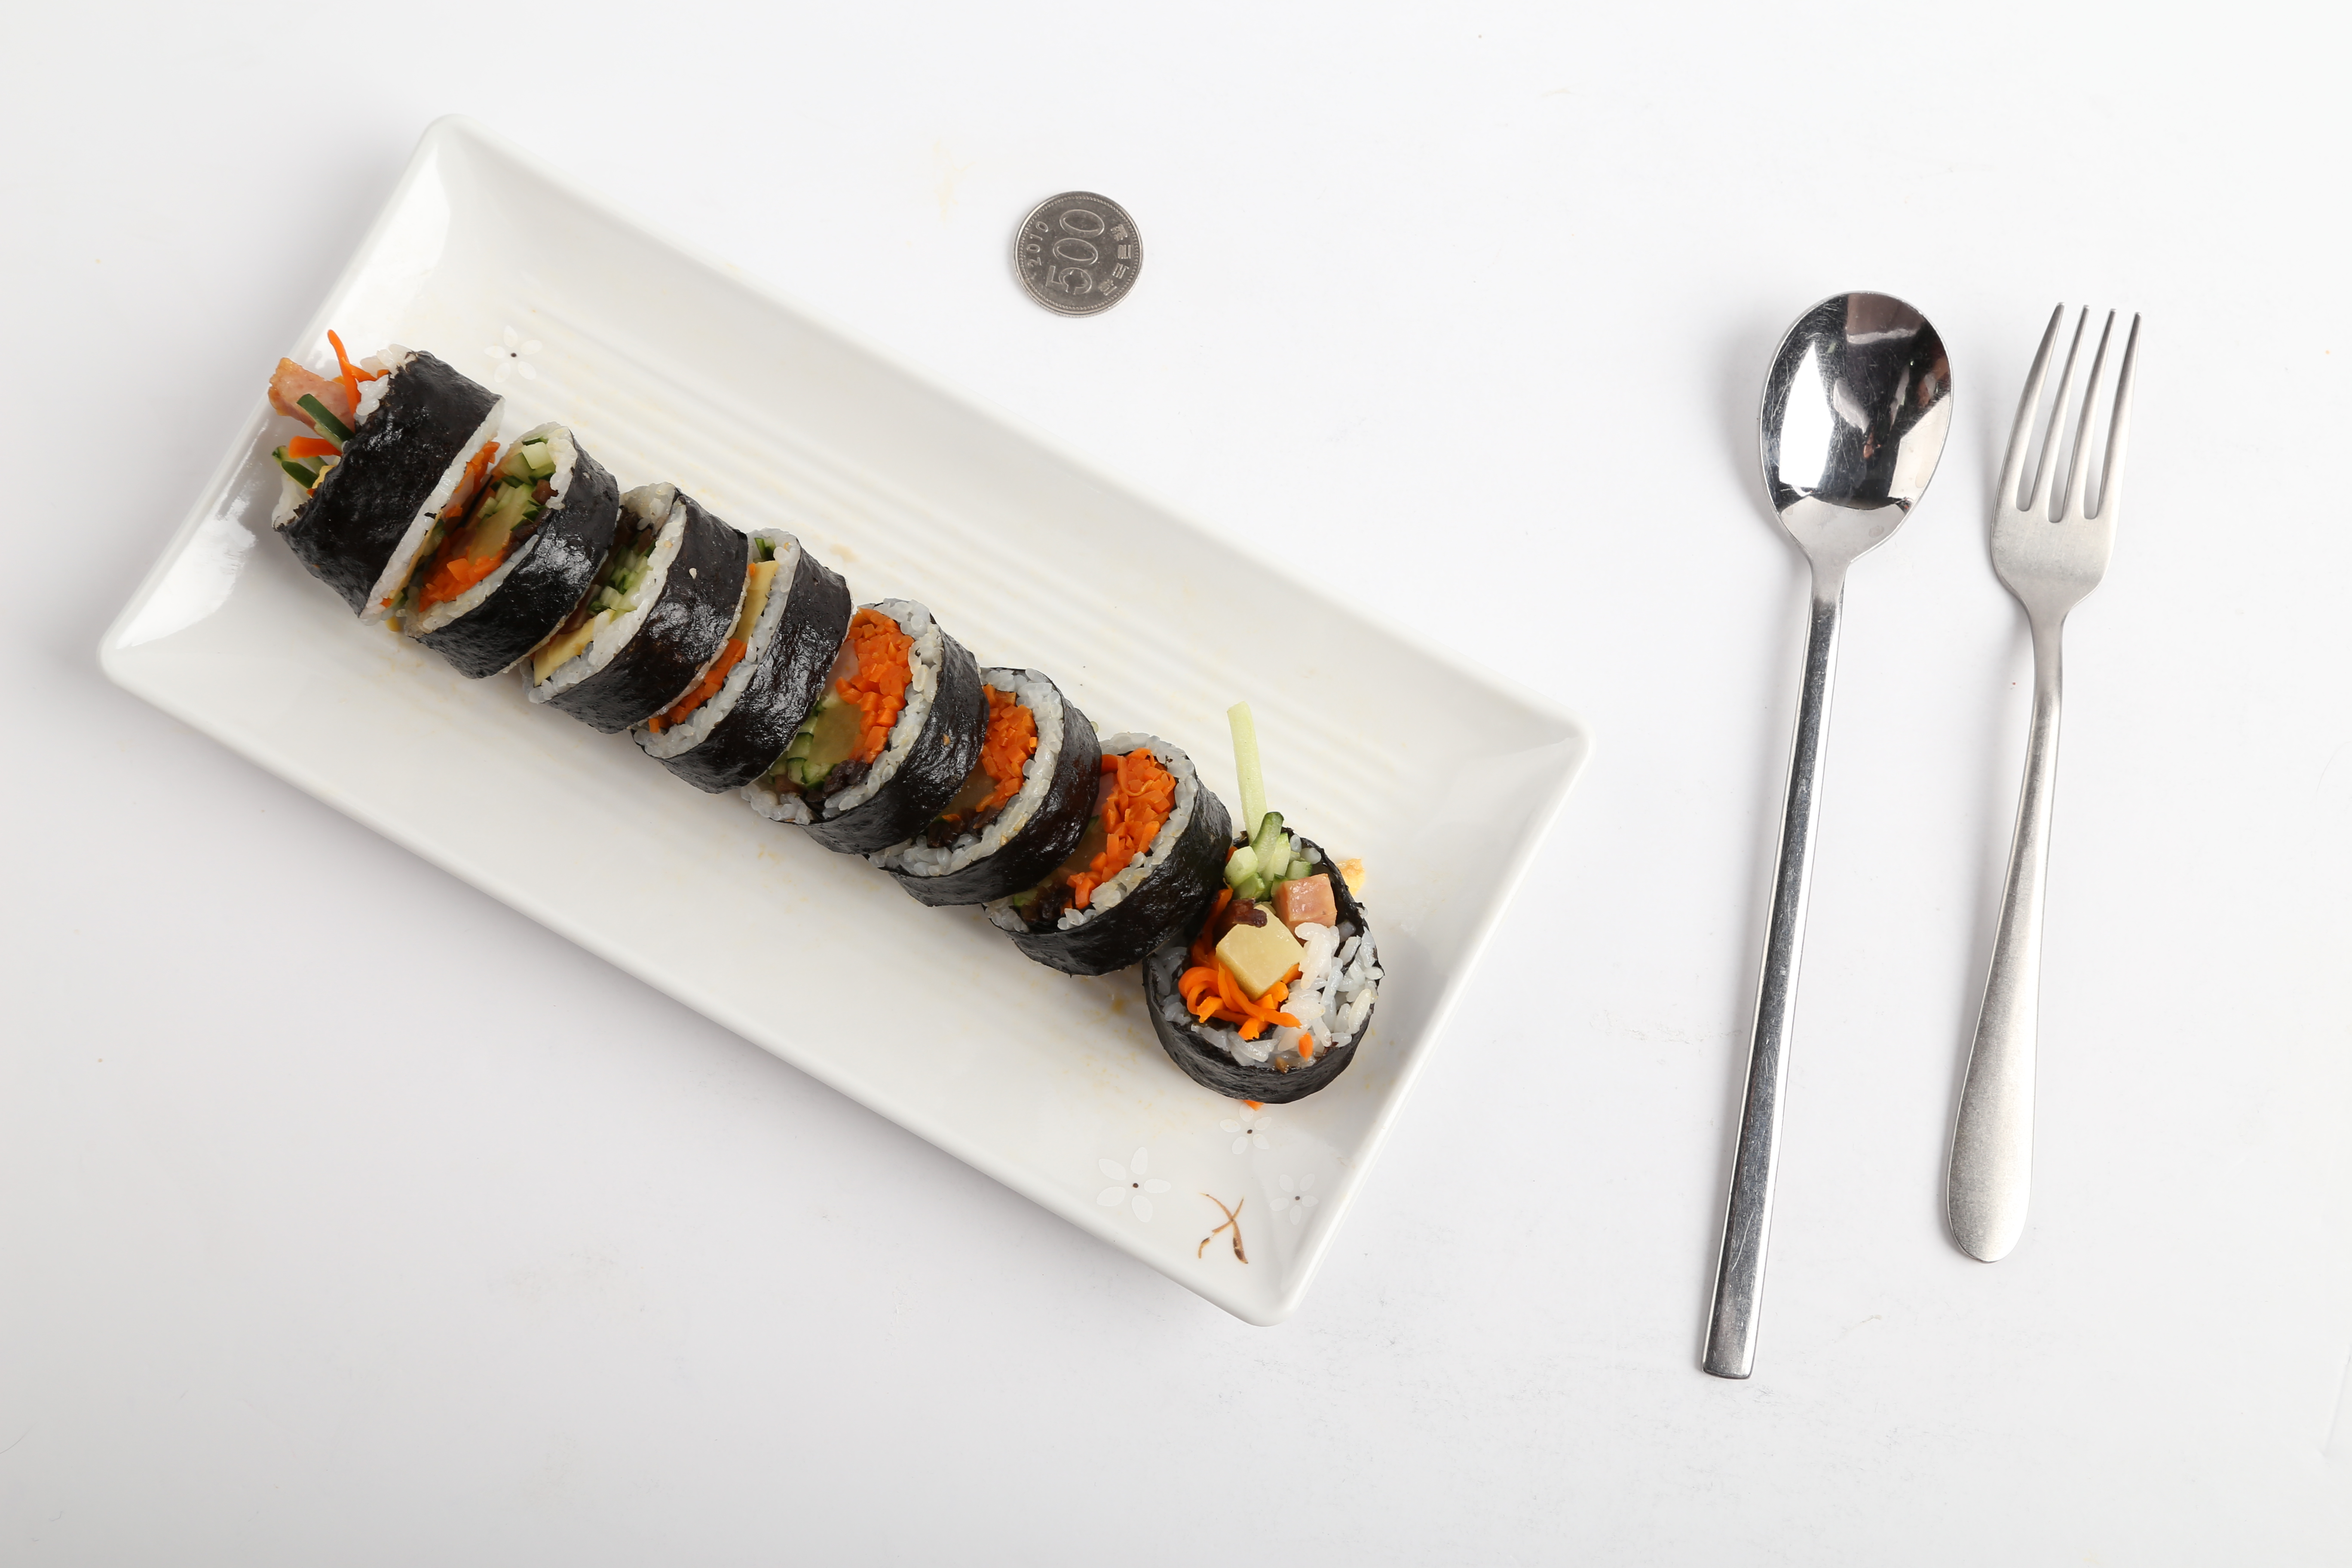dish: (101, 115, 1589, 1330)
ref_coin: (1004, 180, 1150, 324)
ref_fork: (1983, 296, 2142, 658)
ref_spoon: (1753, 287, 1953, 623)
김밥: (268, 332, 1384, 1151)
